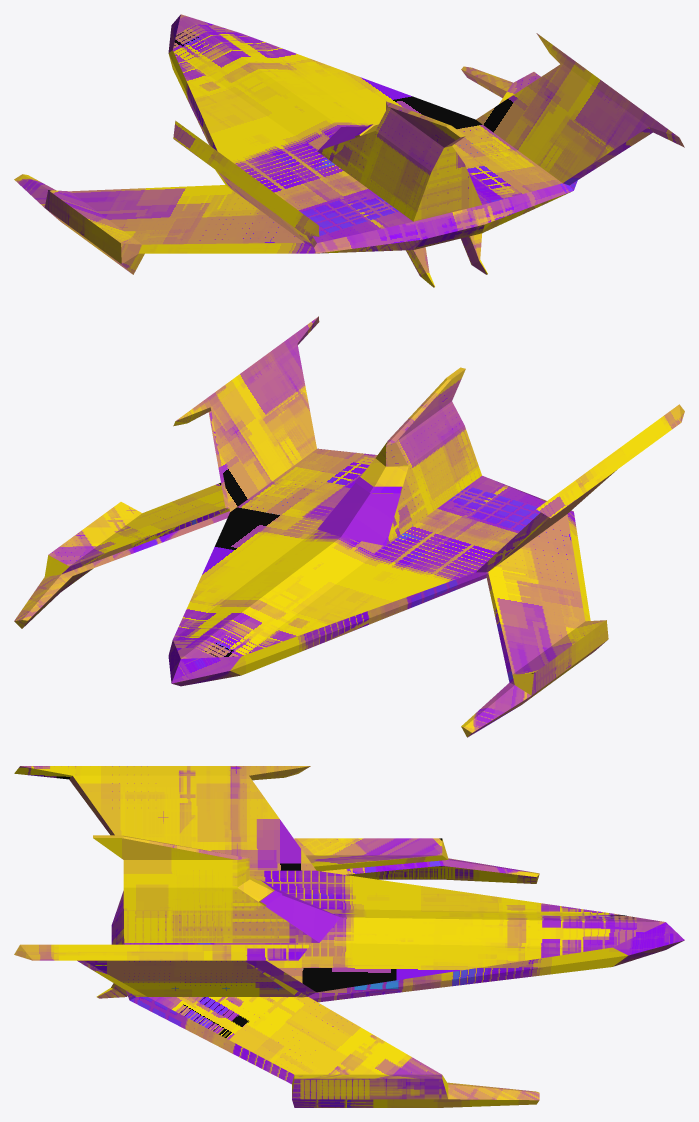
The model's file is spaceship_Textures_001_Solo.glb.
3 renders of one model, top to bottom at view 1: azimuth 30°, elevation 25°; view 2: azimuth 150°, elevation 25°; view 3: azimuth 270°, elevation 25°, orthographic.
Parts seen in each view (by area): view 1: Cube; view 2: Cube; view 3: Cube.
Part boxes in pixels (x1,y1,x2,y2): Cube: (14,14,684,287); Cube: (14,316,684,737); Cube: (14,766,684,1107).
Bounding box in the file's own units: 14.17 × 4.32 × 16.66.
Materials: 1 (1 with a texture image).
